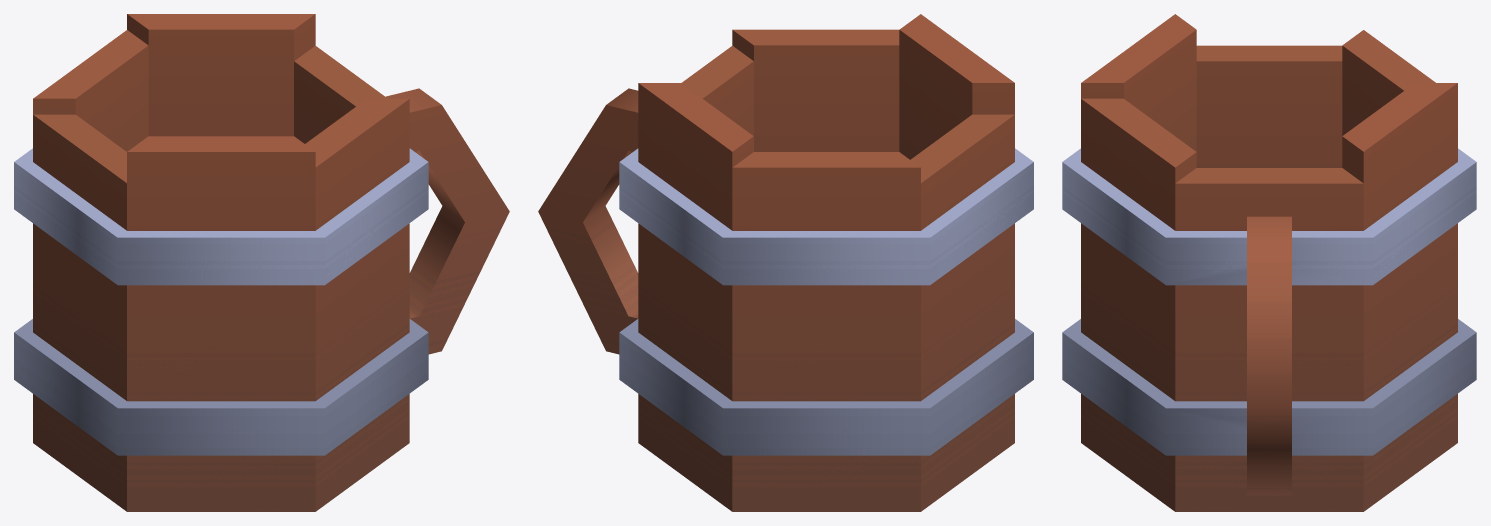
File: mug.glb
3 views of the same model, side by side, from view 1: azimuth 30°, elevation 25°; view 2: azimuth 150°, elevation 25°; view 3: azimuth 270°, elevation 25° (orthographic).
Parts seen in each view (by area): view 1: mug; view 2: mug; view 3: mug.
Boxes of the visible parts, x1=… form: mug: x1=14, y1=14, x2=509, y2=511; mug: x1=538, y1=14, x2=1033, y2=511; mug: x1=1062, y1=14, x2=1476, y2=511.
Bounding box in the file's own units: 0.3437 × 0.2734 × 0.2851.
Materials: 1 (1 with a texture image).
